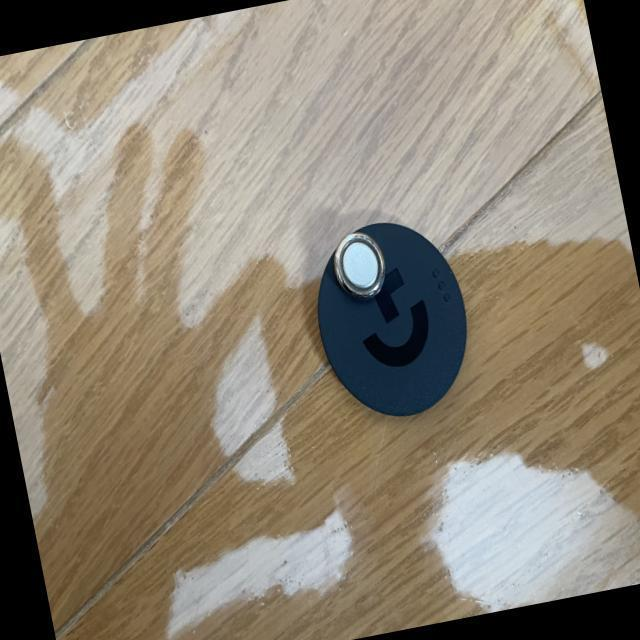COIN: (329, 228, 392, 304)
